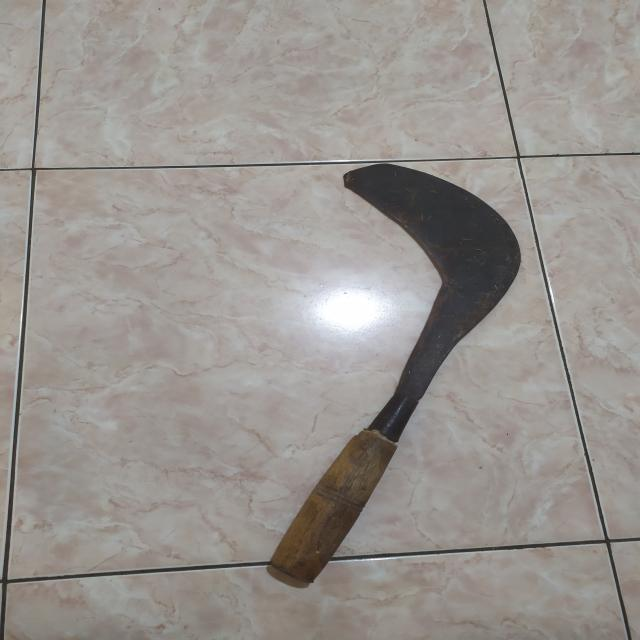Celurit: (263, 161, 526, 588)
